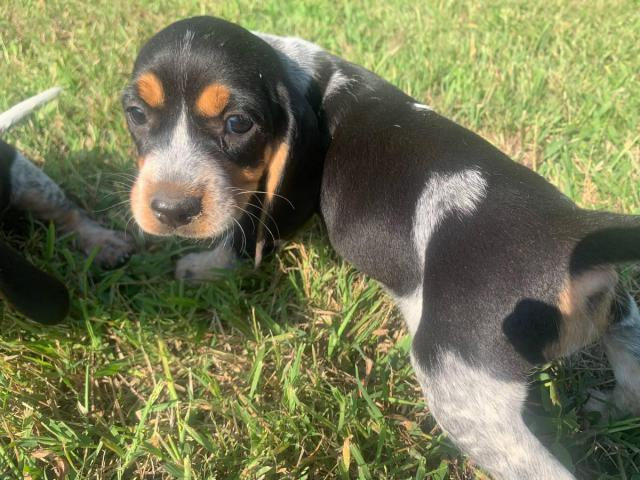dog: (113, 11, 640, 480)
